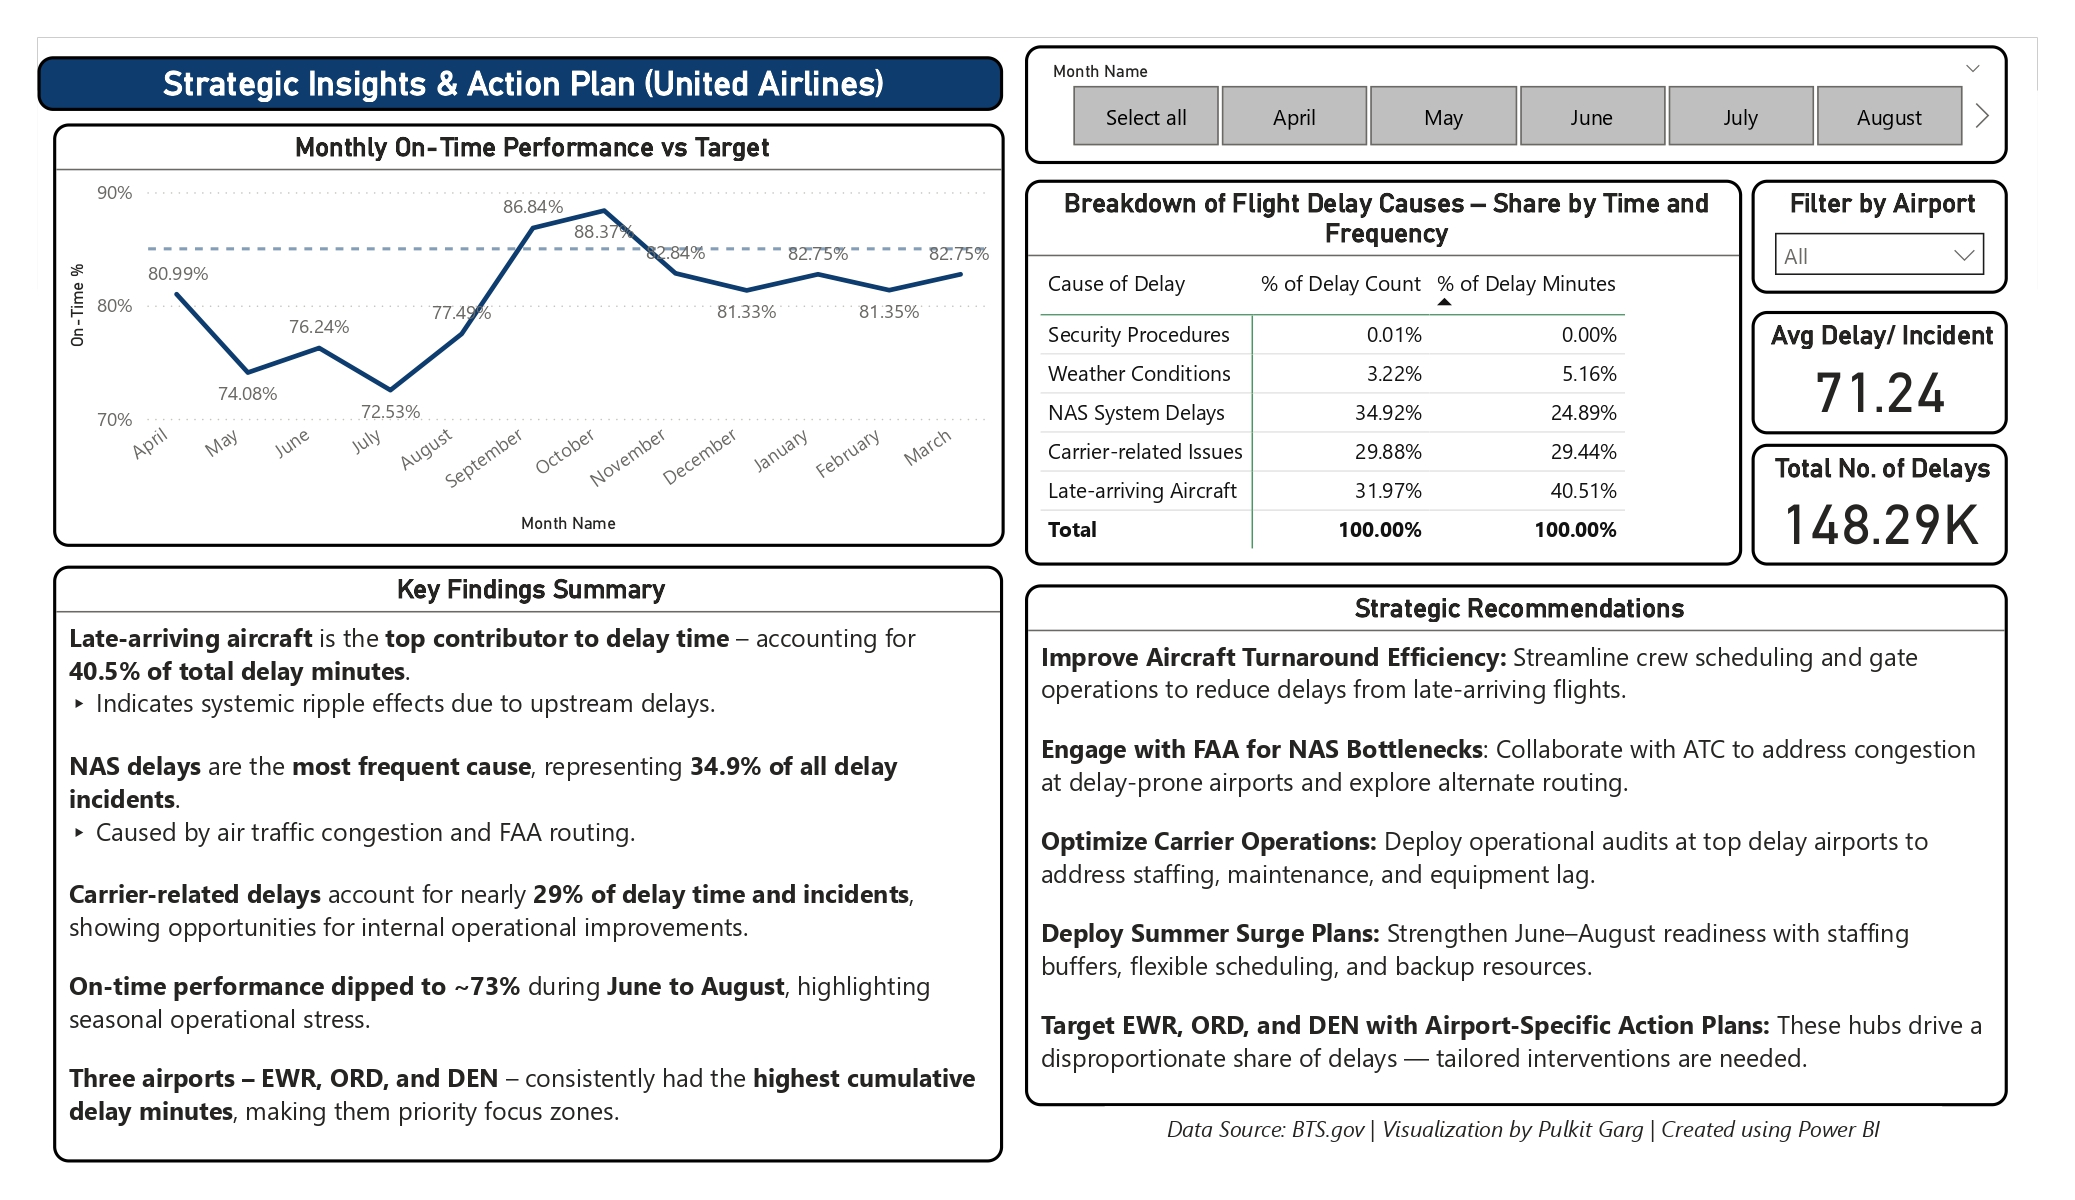

This screenshot's page, from the dashboard's own definition file:
{"tool":"powerbi","page":{"name":"Strategic Insights & Recommendations","canvas":[1280,720],"ordinal":3},"visuals":[{"type":"lineChart","title":"Monthly On-Time Performance vs Target","fields":{"Category":["Airline_Delay_Cause.Month Name"],"Y":["Airline_Delay_Cause.On-Time %"]},"box":[10,54.7,609.5,271.2],"z":0},{"type":"textbox","title":"Key Findings Summary","box":[10,338.4,608.3,381.9],"z":1000},{"type":"textbox","title":"Strategic Recommendations","box":[631.9,349.6,629.4,334.6],"z":2000},{"type":"pivotTable","title":"Breakdown of Flight Delay Causes – Share by Time and Frequency","fields":{"Rows":["DelayCause_Percentages.Cause of Delay"],"Values":["Sum(DelayCause_Percentages.% of Delay Count)","Sum(DelayCause_Percentages.% of Delay Minutes)"]},"box":[631.9,90.8,459,247.5],"z":3000},{"type":"textbox","box":[682.9,684.2,536.1,36.1],"z":4000},{"type":"slicer","title":"Filter by Airport","fields":{"Values":["Airline_Delay_Cause.airport_name"]},"box":[1097.2,90.8,164.2,73.4],"z":5000},{"type":"slicer","fields":{"Values":["Delay_Count_by_Cause.Month Name"]},"box":[631.9,5,629.4,75.9],"z":6000},{"type":"textbox","title":"Strategic Insights & Action Plan (United Airlines)","box":[0,12.4,618.2,34.8],"z":7000},{"type":"card","title":"Avg Delay/ Incident","fields":{"Values":["KPI_Measures.Avg Delay per Incident"]},"box":[1097.2,175.4,164.2,78.4],"z":8000},{"type":"card","title":"Total No. of Delays","fields":{"Values":["Sum(Delay_Count_by_Cause.Delay_Count)"]},"box":[1097.2,260,164.2,78.4],"z":9000}]}

Visuals, with their boxes on the page's 1280x720 design canvas (x1, y1, x2, y2). These are canvas units, not pixel positions in the 2075x1200 screenshot, which may show the page scaled, cropped or inside an application window:
"Monthly On-Time Performance vs Target" lineChart: BBox(10, 55, 620, 326)
"Key Findings Summary" textbox: BBox(10, 338, 618, 720)
"Strategic Recommendations" textbox: BBox(632, 350, 1261, 684)
"Breakdown of Flight Delay Causes – Share by Time and Frequency" pivotTable: BBox(632, 91, 1091, 338)
textbox: BBox(683, 684, 1219, 720)
"Filter by Airport" slicer: BBox(1097, 91, 1261, 164)
slicer - Delay_Count_by_Cause.Month Name: BBox(632, 5, 1261, 81)
"Strategic Insights & Action Plan (United Airlines)" textbox: BBox(0, 12, 618, 47)
"Avg Delay/ Incident" card: BBox(1097, 175, 1261, 254)
"Total No. of Delays" card: BBox(1097, 260, 1261, 338)
